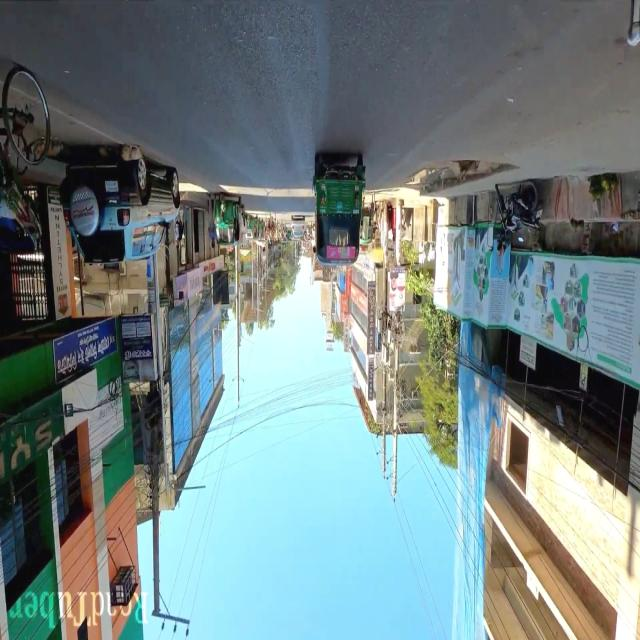silver: (59, 153, 182, 265)
white: (291, 215, 306, 238)
